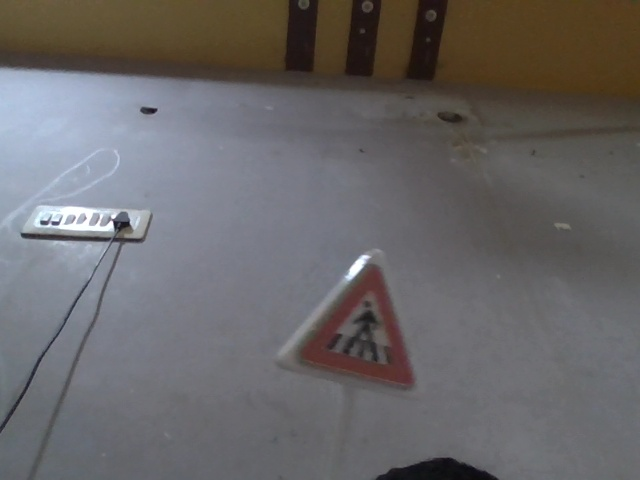crossing: (279, 245, 420, 388)
